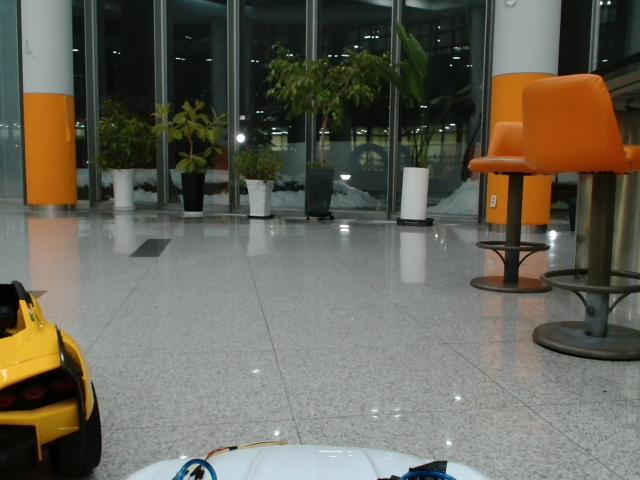car: (1, 280, 102, 480)
